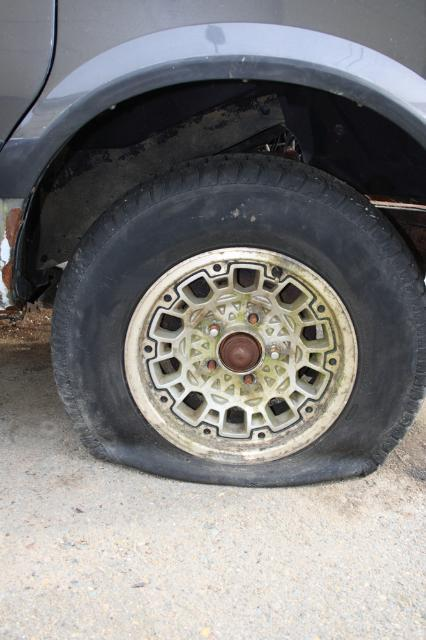tire flat: (51, 152, 426, 488)
